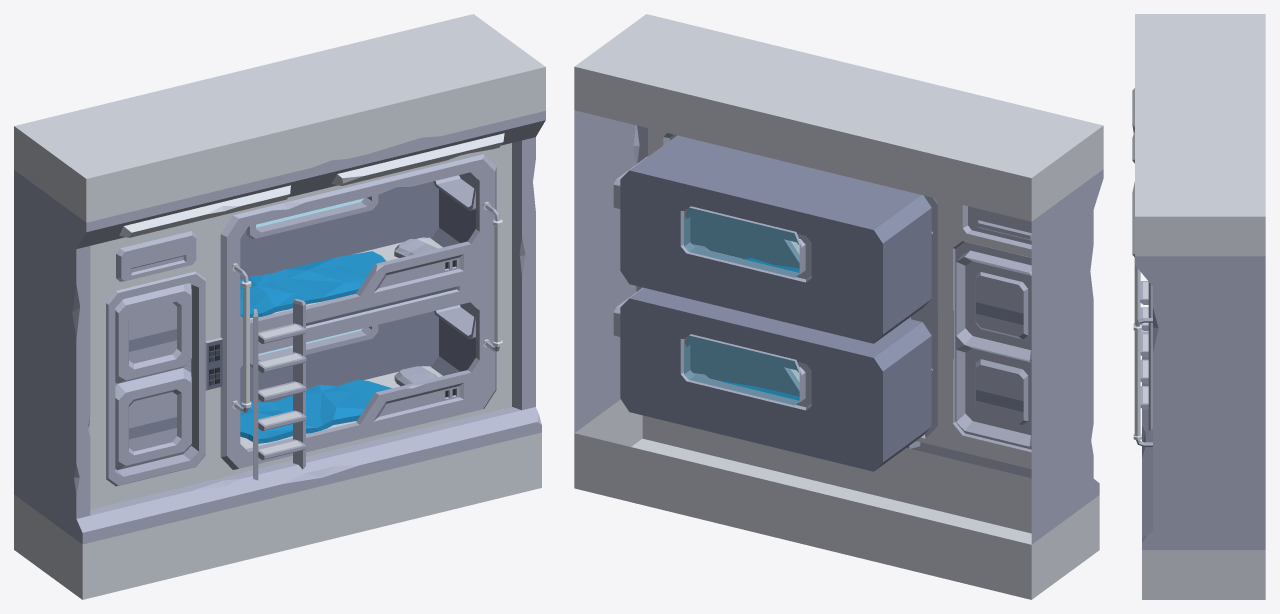
File: WallBed2.FBX
The picture shows the model from 3 angles, left to right: view 1: azimuth 30°, elevation 25°; view 2: azimuth 150°, elevation 25°; view 3: azimuth 270°, elevation 25°; orthographic projection. The views are drawn at different scales.
Parts seen in each view (by area): view 1: WallBed1; view 2: WallBed1, Window; view 3: WallBed1.
Boxes of the visible parts, <box> form: WallBed1: <box>14,14,545,599</box>; WallBed1: <box>574,14,1103,599</box>; Window: <box>684,208,799,405</box>; WallBed1: <box>1132,14,1265,599</box>.
Size of the model in its own units: 39.64 by 34.94 by 11.02.
Materials: 2 (1 with a texture image).
